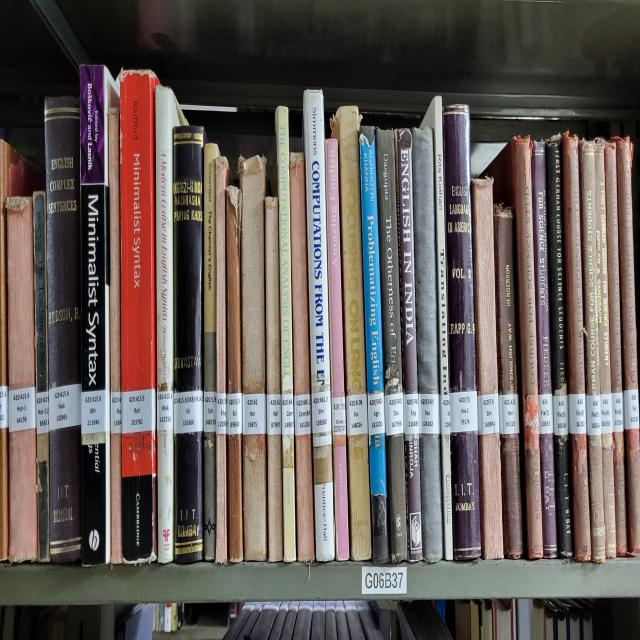Book: (488, 135, 544, 560), (80, 65, 119, 565), (120, 70, 158, 563), (442, 106, 481, 560), (45, 97, 81, 563), (336, 106, 371, 560), (155, 87, 188, 563), (420, 95, 452, 560), (304, 89, 335, 560), (172, 127, 205, 563), (375, 127, 408, 563), (359, 127, 389, 563), (471, 179, 504, 560), (562, 133, 591, 563), (545, 135, 574, 557), (239, 154, 268, 560), (6, 198, 38, 563), (396, 130, 422, 563), (531, 141, 558, 557), (580, 141, 606, 563), (289, 152, 315, 563), (325, 124, 349, 560), (615, 138, 640, 555), (604, 141, 628, 555), (494, 203, 522, 557), (275, 106, 296, 563), (594, 138, 616, 557), (411, 127, 439, 392), (32, 192, 50, 563), (204, 143, 219, 560), (215, 157, 230, 563), (226, 187, 242, 563), (109, 108, 122, 563), (265, 198, 281, 395)
Label: (49, 384, 81, 430), (121, 390, 155, 433), (81, 390, 109, 441), (174, 390, 204, 433), (9, 387, 36, 433), (450, 390, 478, 433), (242, 392, 266, 436), (346, 392, 368, 436), (478, 392, 500, 436), (419, 392, 440, 436), (499, 392, 520, 436), (311, 390, 331, 436), (384, 392, 404, 436), (294, 392, 311, 436), (368, 392, 385, 436), (569, 392, 586, 436), (226, 392, 242, 436), (552, 395, 569, 436), (404, 392, 419, 436), (539, 392, 554, 436), (158, 390, 174, 430), (624, 390, 640, 430), (266, 395, 281, 436), (586, 395, 601, 436), (36, 390, 49, 436), (332, 395, 346, 436), (281, 392, 294, 436), (611, 390, 624, 433), (600, 392, 612, 436), (204, 392, 216, 433), (440, 392, 451, 436), (216, 392, 226, 436), (111, 392, 121, 433)
